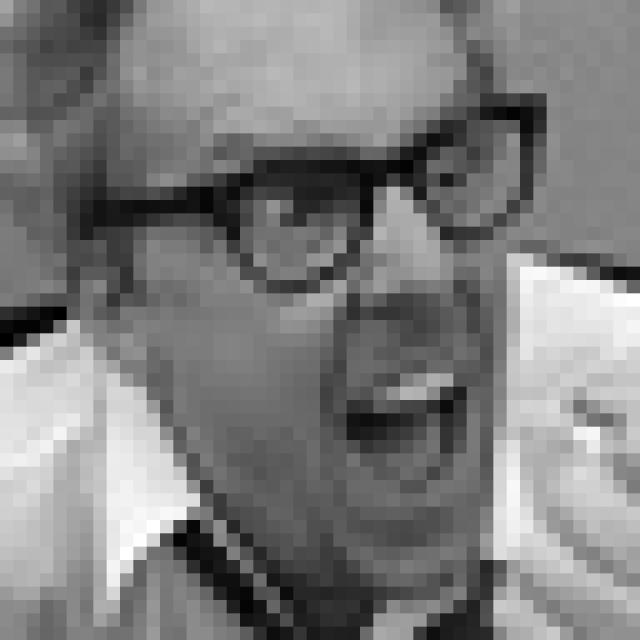angry: (204, 119, 497, 520)
